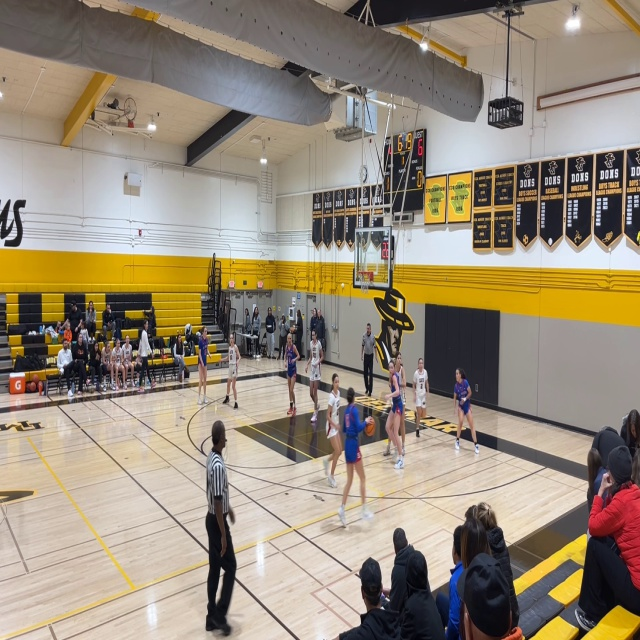Basketball: (364, 416, 375, 436)
